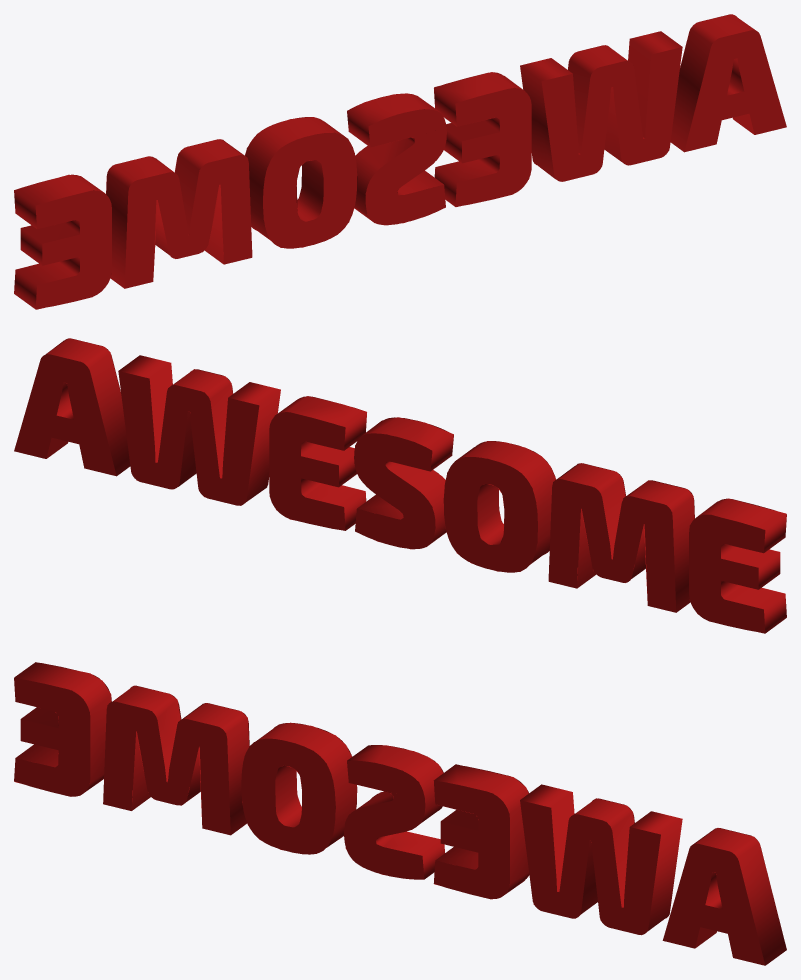
Rendered from awesome.fbx.
3 renders of one model, top to bottom at view 1: azimuth 30°, elevation 25°; view 2: azimuth 150°, elevation 25°; view 3: azimuth 330°, elevation 25°, orthographic.
Parts seen in each view (by area): view 1: Text; view 2: Text; view 3: Text.
Part boxes in pixels (bbox=[...]): Text: bbox=[14, 14, 786, 309]; Text: bbox=[14, 338, 786, 633]; Text: bbox=[14, 662, 786, 965].
Size of the model in its own units: 16.06 by 2.26 by 0.8.
